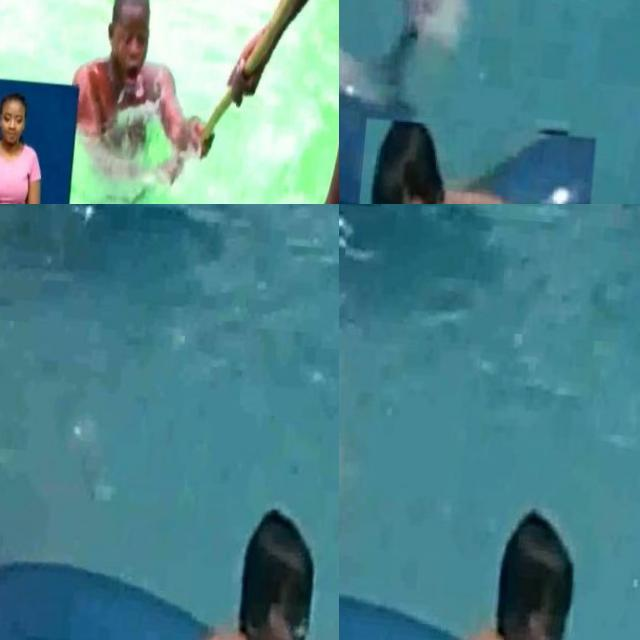drowning: (0, 390, 46, 640), (339, 0, 438, 114)
swimming: (442, 478, 608, 640), (53, 0, 188, 179), (344, 117, 595, 204), (174, 506, 335, 640)
